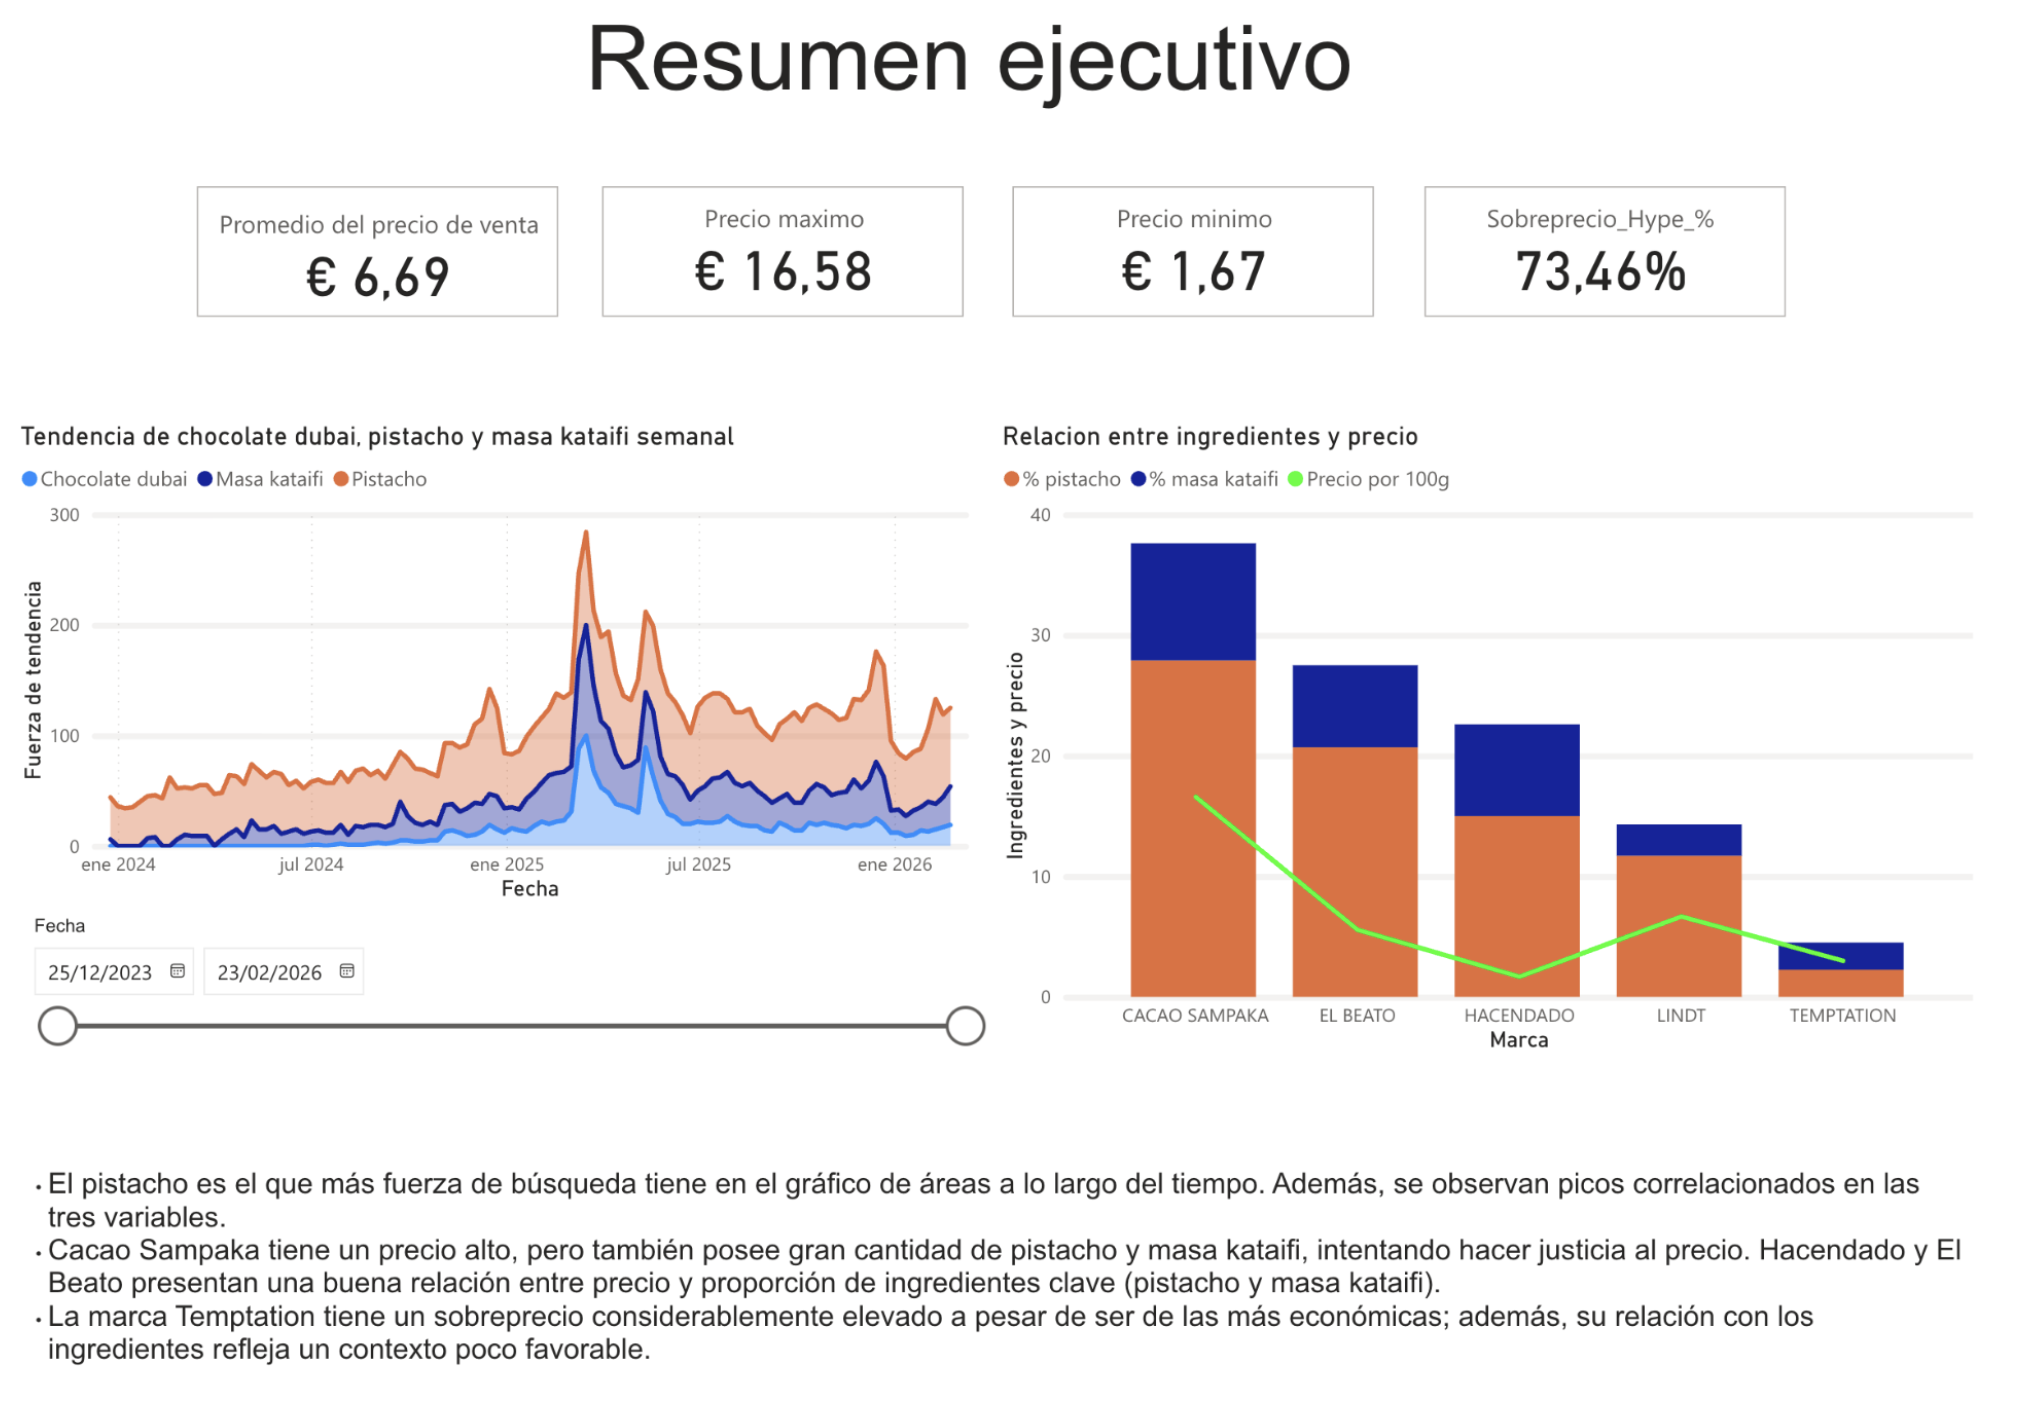

This screenshot's page, from the dashboard's own definition file:
{"tool":"powerbi","page":{"name":"Resumen ejecutivo","canvas":[1280,950],"ordinal":0},"visuals":[{"type":"cardVisual","fields":{"Data":["Avg(chocolate_dubai_tabla_final.precio_venta_100g)"]},"box":[114.4,151.8,245.1,95.3],"z":0},{"type":"cardVisual","fields":{"Data":["Max(chocolate_dubai_tabla_final.precio_venta_100g)"]},"box":[377.7,151.8,245.1,95.3],"z":1000},{"type":"cardVisual","fields":{"Data":["Min(chocolate_dubai_tabla_final.precio_venta_100g)"]},"box":[644.6,151.8,245.1,95.3],"z":2000},{"type":"stackedAreaChart","title":"Tendencia de chocolate dubai,  pistacho y masa kataifi semanal","fields":{"Y":["Sum(trends_chocolate_dubai_semanal.trend_chocolate_dubai)","Sum(trends_chocolate_dubai_semanal.trend_kataifi)","Sum(trends_chocolate_dubai_semanal.trend_pistacho)"],"Category":["Calendario.Fecha_Eje"]},"box":[0,311.5,639.7,315.1],"z":3000},{"type":"slicer","fields":{"Values":["Calendario.Fecha_Eje"]},"box":[1.2,626.5,639.7,98.2],"z":4000},{"type":"lineStackedColumnComboChart","title":"Relacion entre ingredientes y precio","fields":{"Category":["Mercado_Chocolate_Dubai_Limpio.marca"],"Y":["Sum(Mercado_Chocolate_Dubai_Limpio.%_pistacho)","Sum(Mercado_Chocolate_Dubai_Limpio.%_masa_kadayif)"],"Y2":["Sum(Mercado_Chocolate_Dubai_Limpio.precio_100g)"]},"box":[638.5,311.5,640.9,413.3],"z":5000},{"type":"cardVisual","fields":{"Data":["Mercado_Chocolate_Dubai_Limpio.Sobreprecio_Hype_%"]},"box":[912.5,151.8,245.1,95.3],"z":6000},{"type":"textbox","box":[0,790.7,1280.6,142.6],"z":7000},{"type":"textbox","box":[367.8,34.7,509.1,85.1],"z":8000}]}

Visuals, with their boxes on the page's 1280x950 design canvas (x1, y1, x2, y2). These are canvas units, not pixel positions in the 2034x1404 screenshot, which may show the page scaled, cropped or inside an application window:
cardVisual - Avg(chocolate_dubai_tabla_final.precio_venta_100g): locate(114, 152, 360, 247)
cardVisual - Max(chocolate_dubai_tabla_final.precio_venta_100g): locate(378, 152, 623, 247)
cardVisual - Min(chocolate_dubai_tabla_final.precio_venta_100g): locate(645, 152, 890, 247)
"Tendencia de chocolate dubai,  pistacho y masa kataifi semanal" stackedAreaChart: locate(0, 312, 640, 627)
slicer - Calendario.Fecha_Eje: locate(1, 626, 641, 725)
"Relacion entre ingredientes y precio" lineStackedColumnComboChart: locate(638, 312, 1279, 725)
cardVisual - Mercado_Chocolate_Dubai_Limpio.Sobreprecio_Hype_%: locate(912, 152, 1158, 247)
textbox: locate(0, 791, 1281, 933)
textbox: locate(368, 35, 877, 120)
